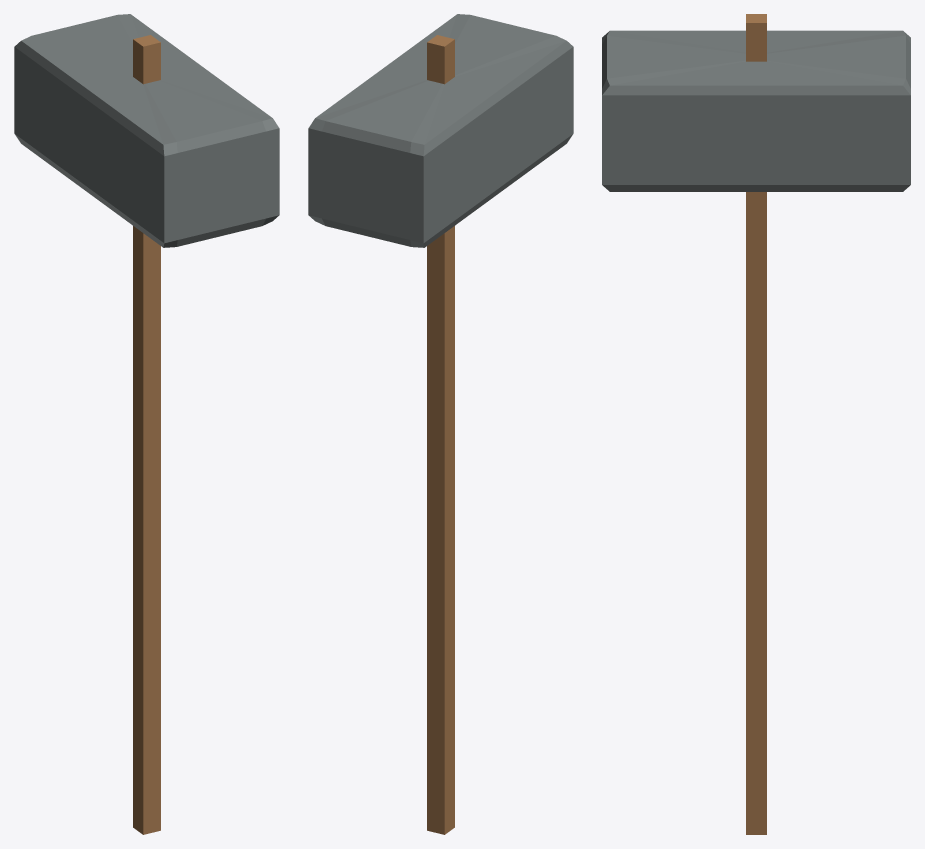
File: warHammer_0.1.0.fbx
3 renders of one model, left to right at view 1: azimuth 30°, elevation 25°; view 2: azimuth 150°, elevation 25°; view 3: azimuth 270°, elevation 25°, orthographic. The views are drawn at different scales.
Parts seen in each view (by area): view 1: warHammer; view 2: warHammer; view 3: warHammer.
Boxes of the visible parts, x1,y1,x2,y2 form: warHammer: (14, 14, 279, 834); warHammer: (308, 14, 573, 834); warHammer: (602, 14, 910, 834).
Bounding box in the file's own units: 163 × 1063 × 366.
